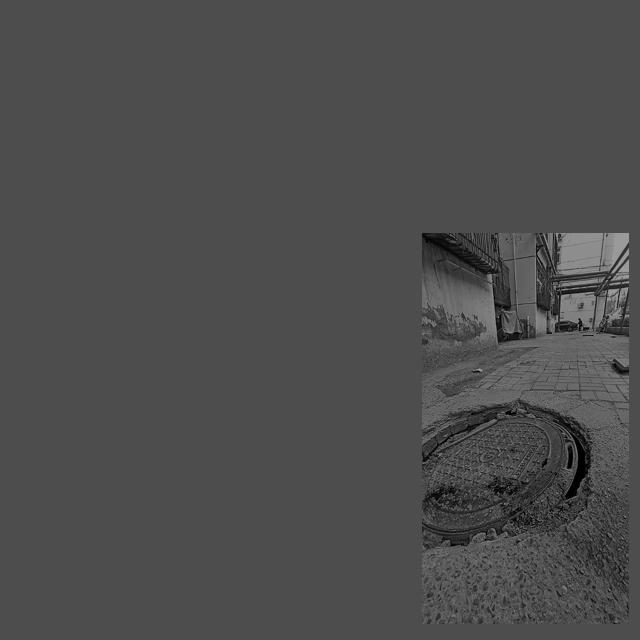circle: (423, 390, 602, 592)
